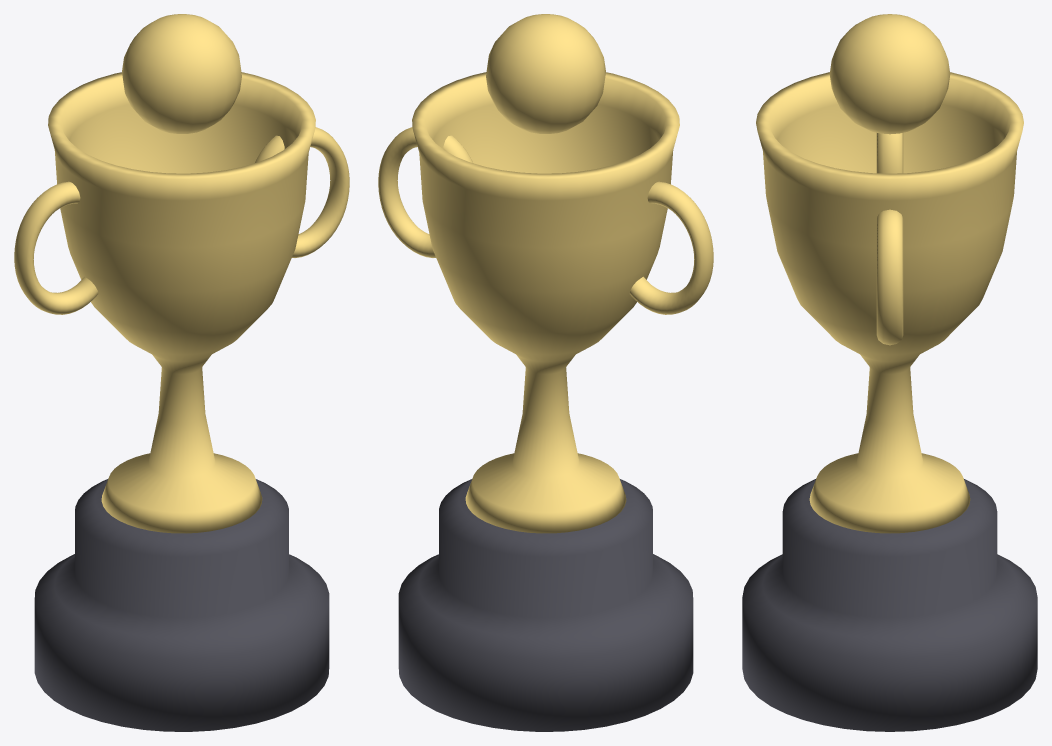
File: trophy.glb
3 views of the same model, side by side, from view 1: azimuth 30°, elevation 25°; view 2: azimuth 150°, elevation 25°; view 3: azimuth 270°, elevation 25° (orthographic).
Parts seen in each view (by area): view 1: cup, base, topball, Torus, Torus.001; view 2: cup, base, topball, Torus, Torus.001; view 3: cup, base, topball, Torus.001, Torus.
Part boxes in pixels (<box>): cup: <box>48,72,315,533</box>; base: <box>34,479,329,731</box>; topball: <box>122,14,241,133</box>; Torus: <box>14,181,98,314</box>; Torus.001: <box>255,127,349,257</box>; cup: <box>412,72,679,533</box>; base: <box>398,479,693,731</box>; topball: <box>486,14,605,133</box>; Torus: <box>629,181,713,314</box>; Torus.001: <box>378,127,472,257</box>; cup: <box>756,72,1023,533</box>; base: <box>742,479,1037,731</box>; topball: <box>829,14,950,134</box>; Torus.001: <box>876,209,903,345</box>; Torus: <box>876,133,903,173</box>.
Size of the model in its own units: 0.5696 by 1.07 by 0.44.
